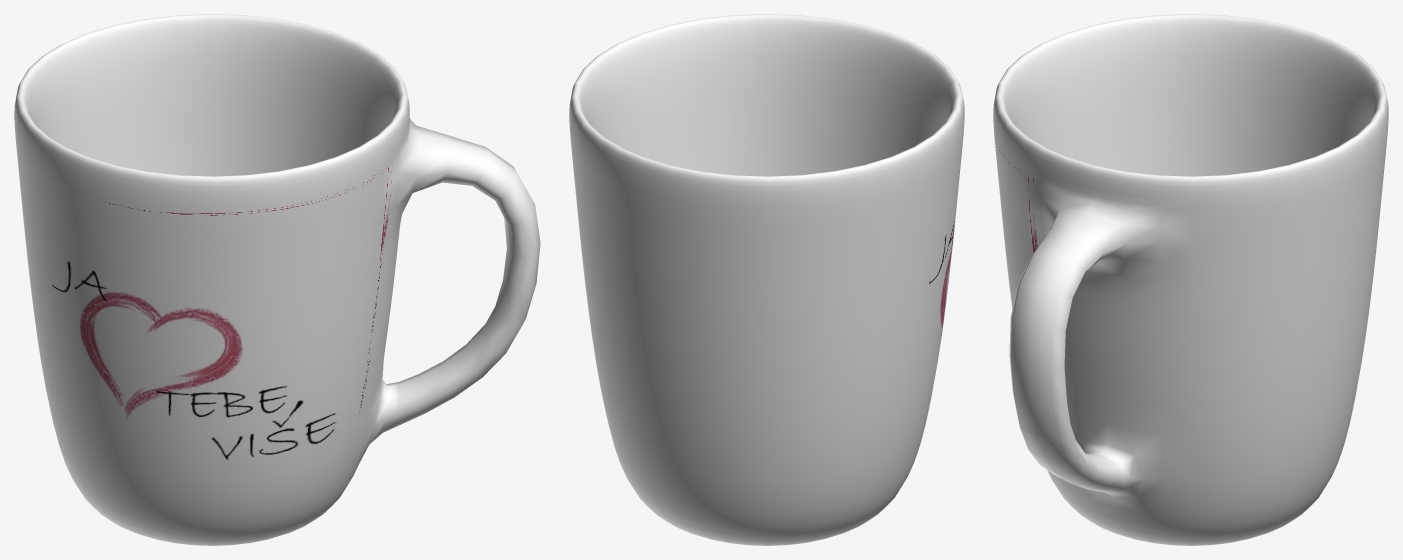
The model's file is krujka.fbx.
3 views of the same model, side by side, from view 1: azimuth 30°, elevation 25°; view 2: azimuth 150°, elevation 25°; view 3: azimuth 270°, elevation 25° (orthographic).
Parts seen in each view (by area): view 1: books_and_mugs.001; view 2: books_and_mugs.001; view 3: books_and_mugs.001.
Boxes of the visible parts, x1,y1,x2,y2 form: books_and_mugs.001: (14,14,540,545); books_and_mugs.001: (569,14,964,545); books_and_mugs.001: (993,14,1388,545).
Bounding box in the file's own units: 16.71 × 15.38 × 13.47.
